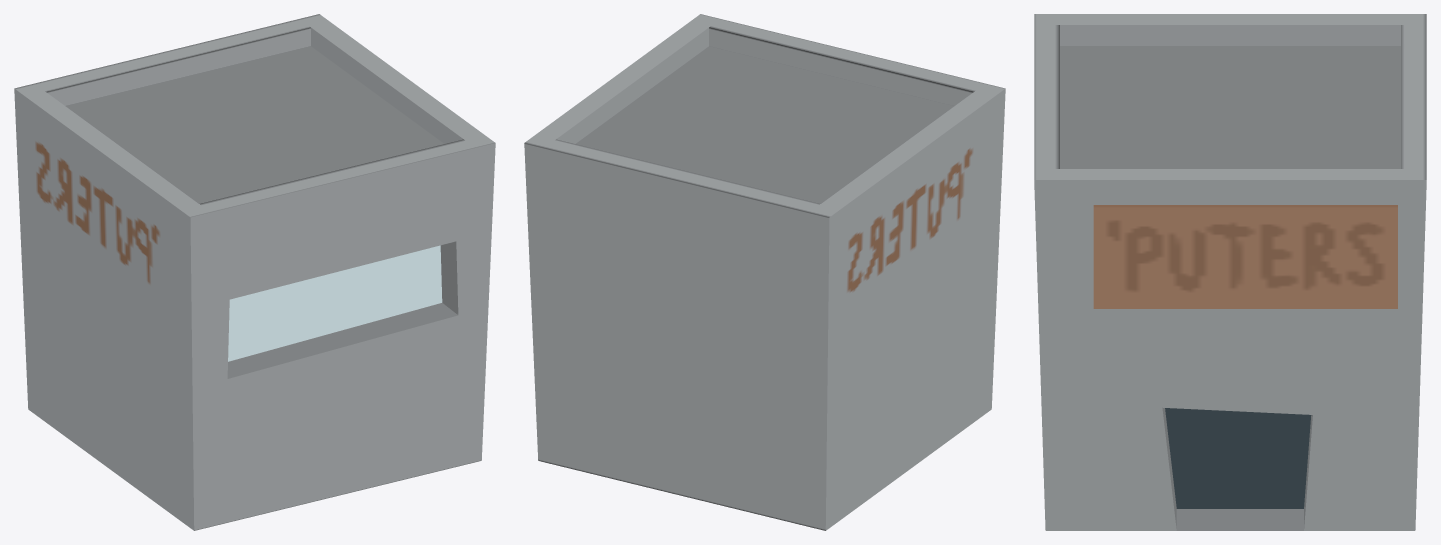
Rendered from building.glb.
3 views of the same model, side by side, from view 1: azimuth 30°, elevation 25°; view 2: azimuth 150°, elevation 25°; view 3: azimuth 270°, elevation 25° (orthographic). The views are drawn at different scales.
Parts seen in each view (by area): view 1: Cube.001; view 2: Cube.001; view 3: Cube.001.
Boxes of the visible parts, bbox=[...] form: Cube.001: bbox=[14, 14, 495, 530]; Cube.001: bbox=[524, 14, 1005, 530]; Cube.001: bbox=[1034, 14, 1426, 530].
Bounding box in the file's own units: 8.62 × 8.51 × 8.51.
Materials: 1 (1 with a texture image).
